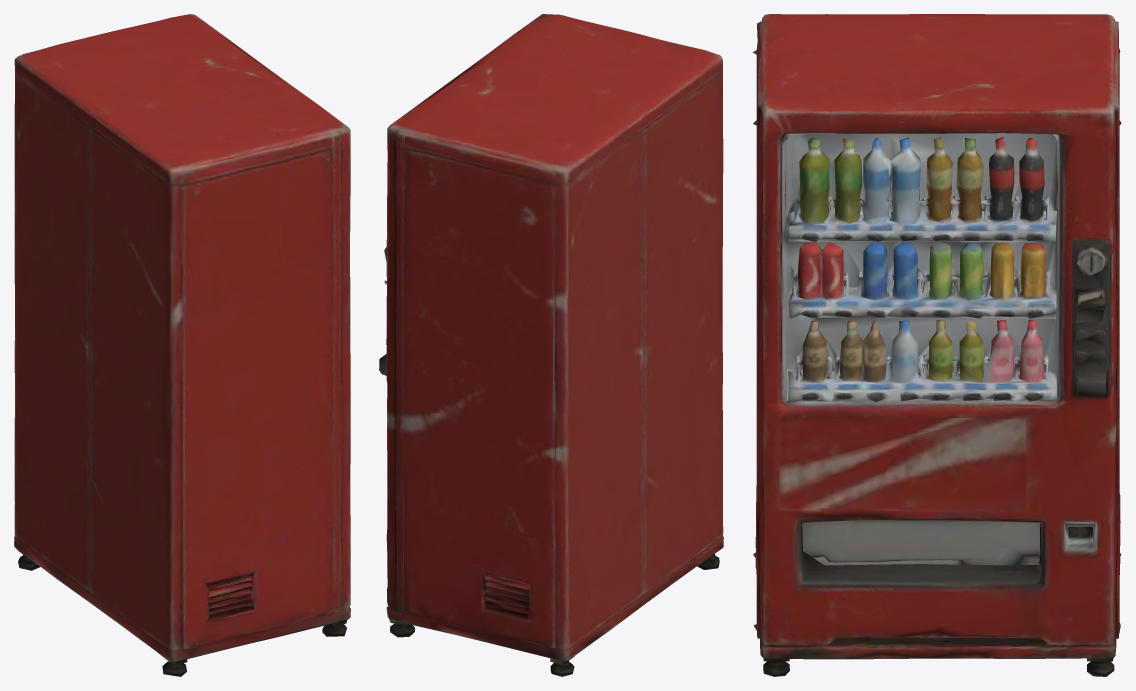
The model's file is vending.glb.
3 renders of one model, left to right at view 1: azimuth 30°, elevation 25°; view 2: azimuth 150°, elevation 25°; view 3: azimuth 270°, elevation 25°, orthographic. The views are drawn at different scales.
Visible parts, largest first — view 1: tripo_node_5170fd04-b8d8-44e2-b75e-c832dc001b7e; view 2: tripo_node_5170fd04-b8d8-44e2-b75e-c832dc001b7e; view 3: tripo_node_5170fd04-b8d8-44e2-b75e-c832dc001b7e.
Boxes of the visible parts, bbox=[...] form: tripo_node_5170fd04-b8d8-44e2-b75e-c832dc001b7e: bbox=[14, 14, 350, 676]; tripo_node_5170fd04-b8d8-44e2-b75e-c832dc001b7e: bbox=[379, 14, 723, 676]; tripo_node_5170fd04-b8d8-44e2-b75e-c832dc001b7e: bbox=[752, 14, 1121, 676].
Size of the model in its own units: 0.3936 by 1 by 0.5886.
1 material, 1 textured.
